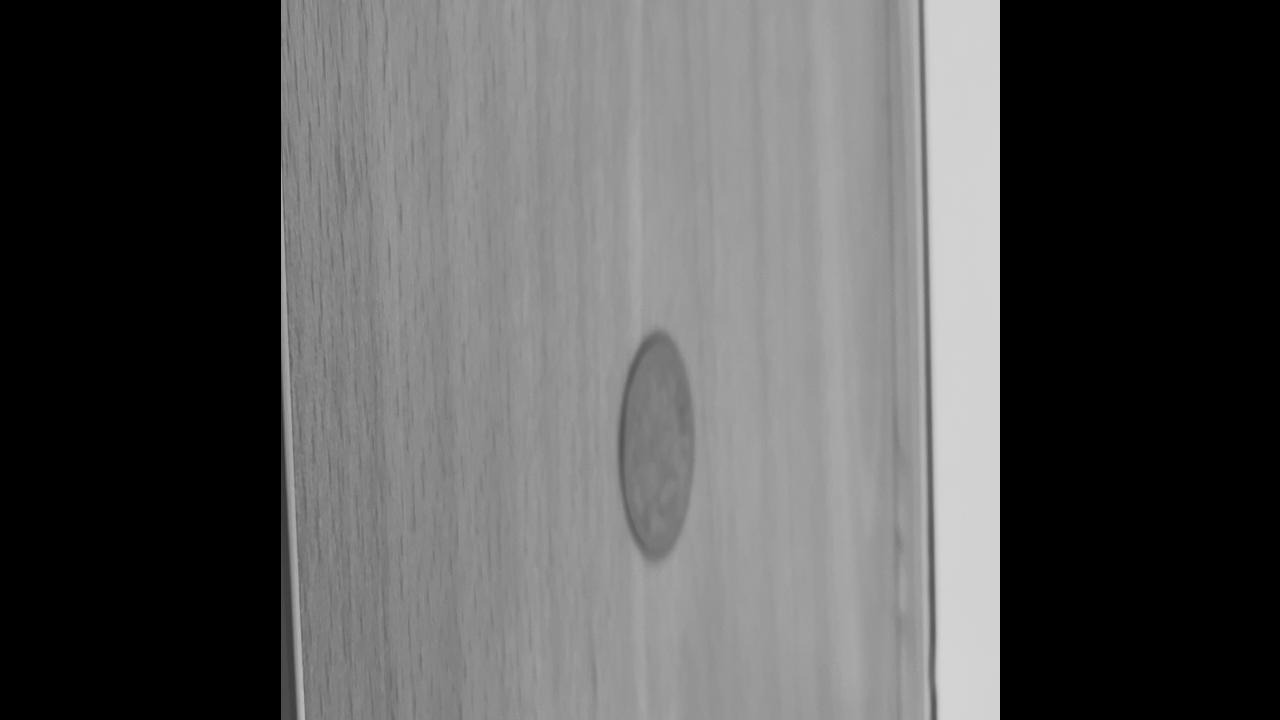coin: (618, 330, 696, 562)
